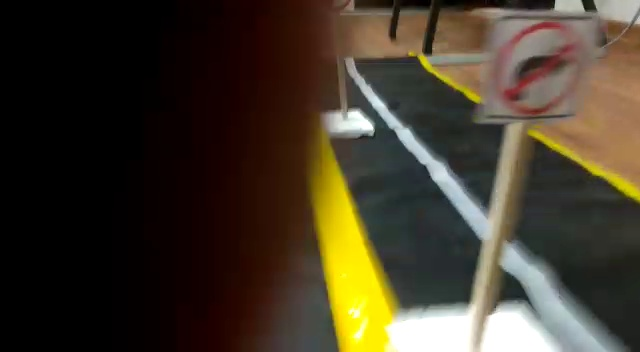saga_donulmez: (493, 18, 579, 118)
